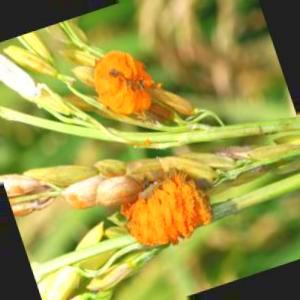Leaf_Scald: (122, 176, 199, 246), (96, 50, 154, 119)
